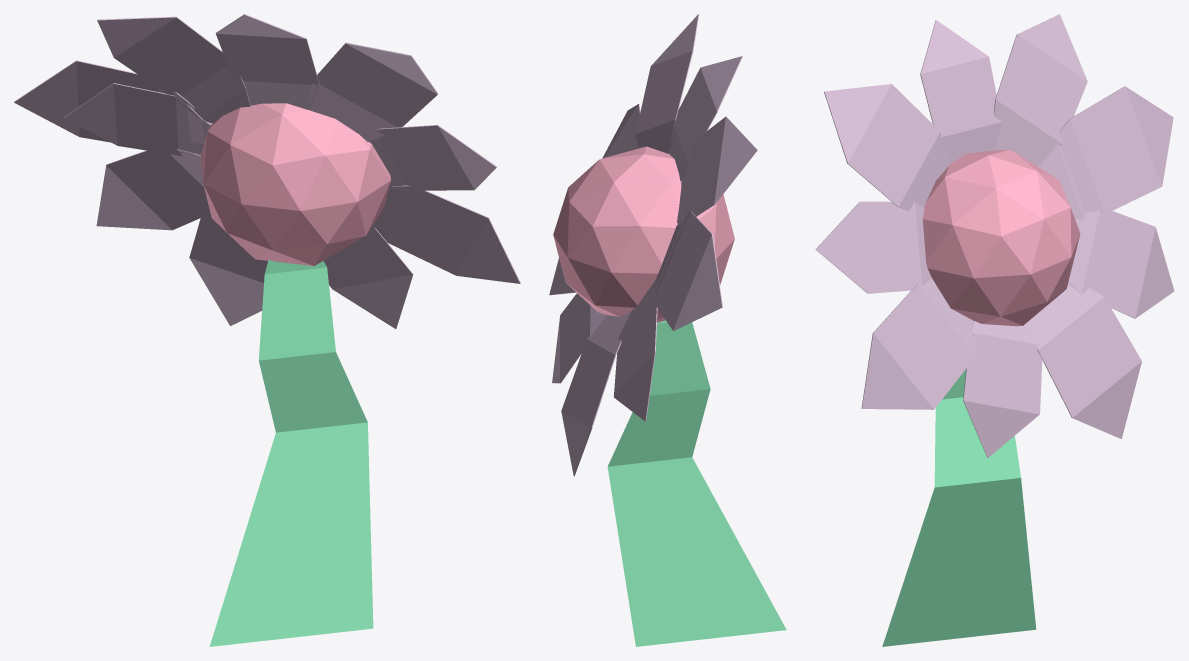
Rendered from fleure2.glb.
3 renders of one model, left to right at view 1: azimuth 30°, elevation 25°; view 2: azimuth 150°, elevation 25°; view 3: azimuth 270°, elevation 25°, orthographic. The views are drawn at different scales.
Visible parts, largest first — view 1: Cylinder.002; view 2: Cylinder.002; view 3: Cylinder.002.
Part boxes in pixels (x1=…): Cylinder.002: x1=14, y1=14, x2=520, y2=646; Cylinder.002: x1=549, y1=14, x2=786, y2=646; Cylinder.002: x1=815, y1=14, x2=1174, y2=646.
Size of the model in its own units: 4.03 by 6.97 by 3.9.
